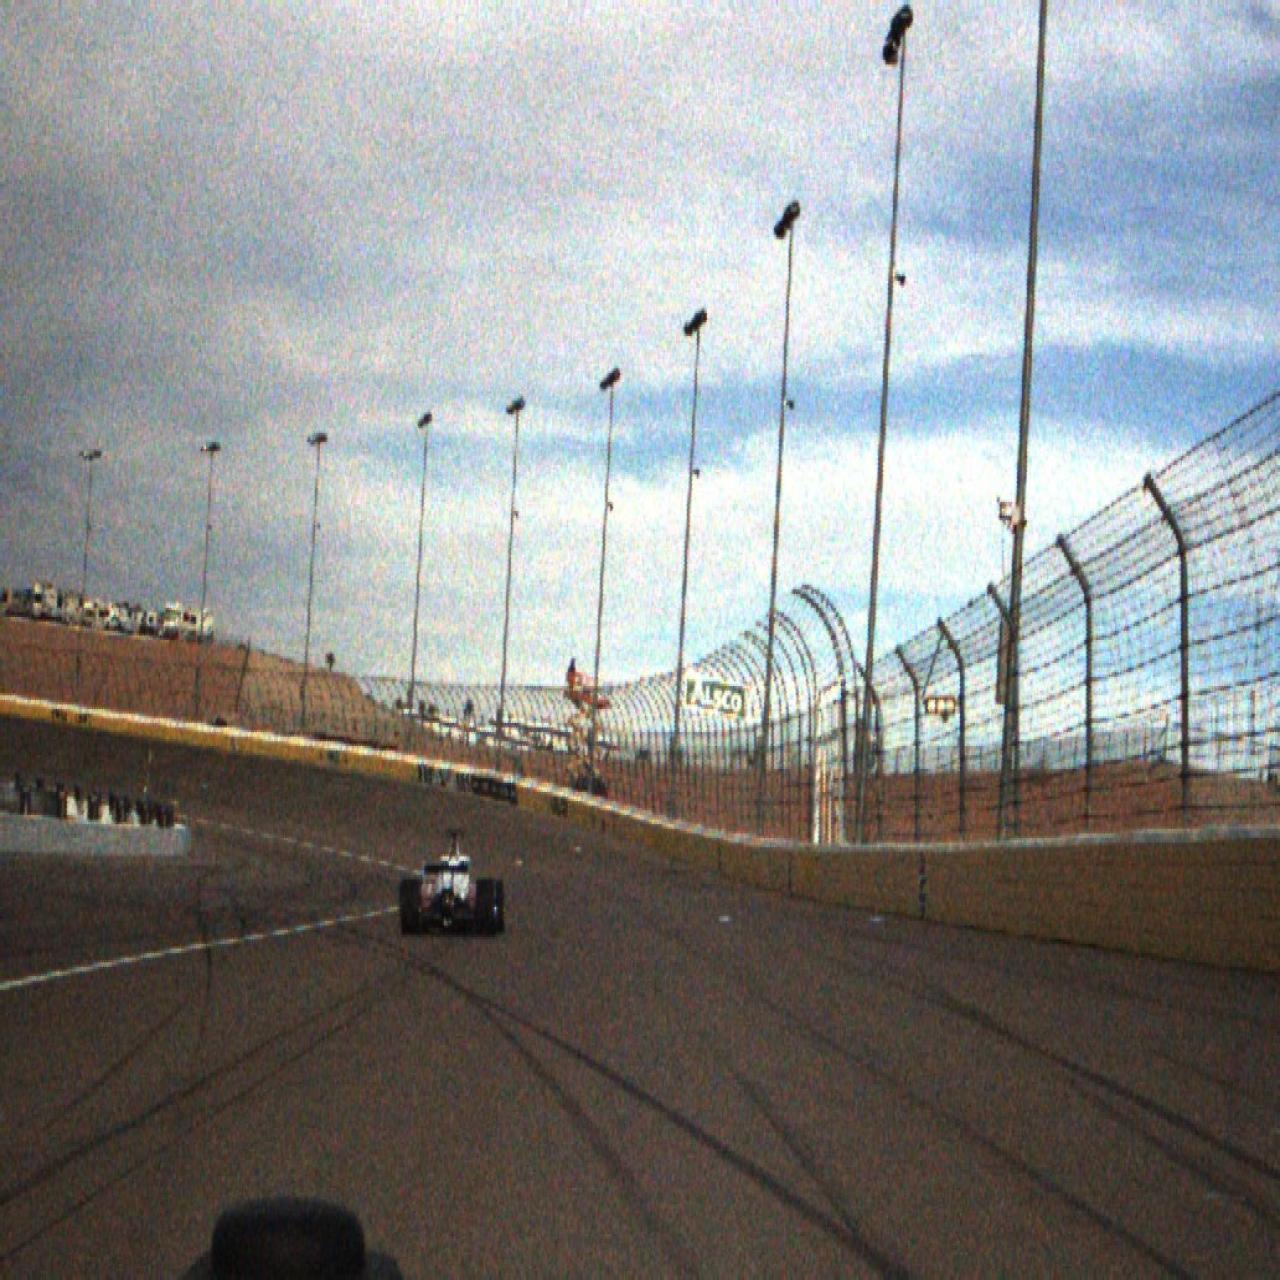AV: (399, 828, 505, 938)
Wheel: (400, 879, 420, 935), (478, 878, 494, 938), (491, 880, 505, 934)
